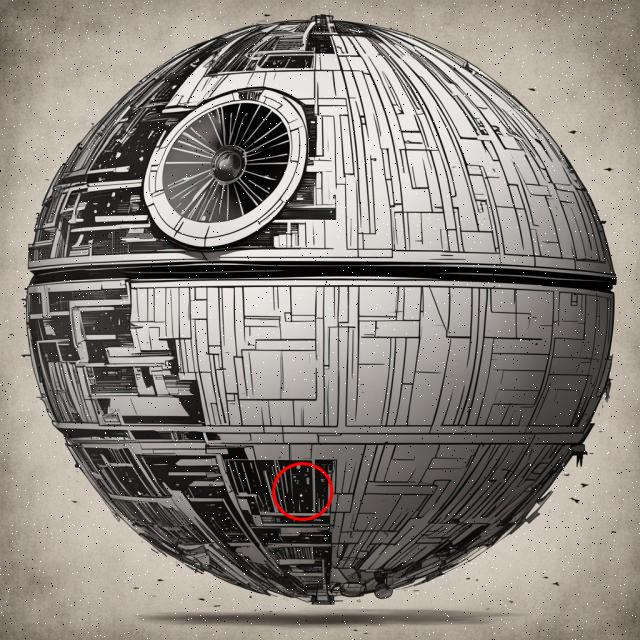Death-star: (24, 13, 619, 608)
